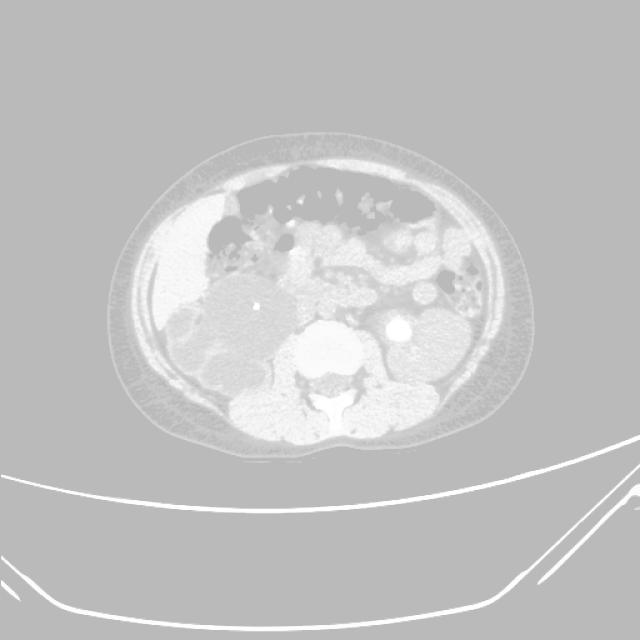STONE: (191, 143, 471, 305)
